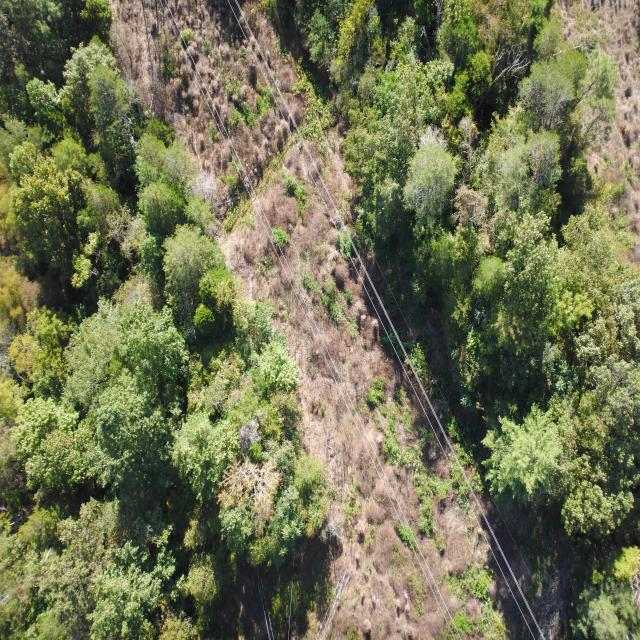Area of Interest: (7, 11, 331, 632), (351, 5, 637, 640)
